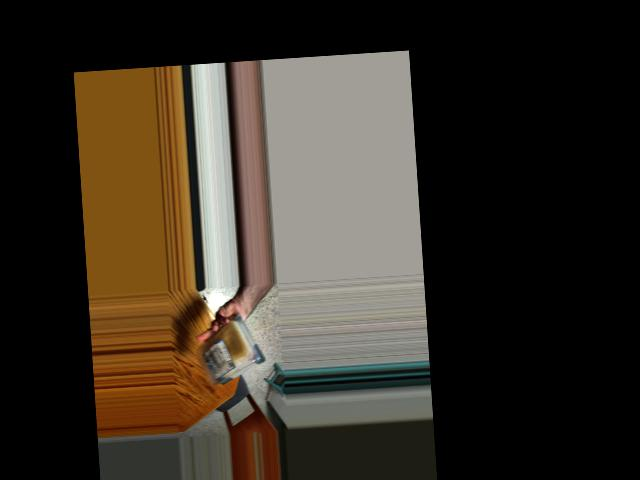cheese: (202, 315, 262, 390)
